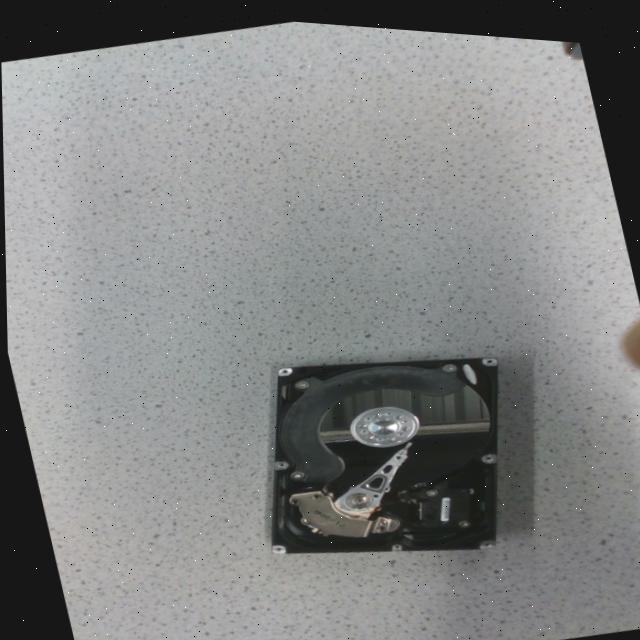actuator arm: (331, 436, 407, 514)
actuator axis: (343, 486, 368, 503)
case: (269, 350, 494, 548)
magnet: (287, 485, 368, 530)
pcb connector: (417, 477, 468, 522)
platter: (317, 374, 488, 481)
platter holder: (347, 400, 417, 440)
platter protector: (277, 359, 462, 477)
screw: (287, 465, 303, 475), (440, 356, 455, 364), (294, 374, 307, 383), (456, 512, 467, 520), (423, 482, 434, 489), (398, 418, 409, 424), (370, 405, 381, 411), (362, 427, 373, 433), (356, 416, 366, 421), (383, 429, 393, 434), (392, 407, 401, 412)
